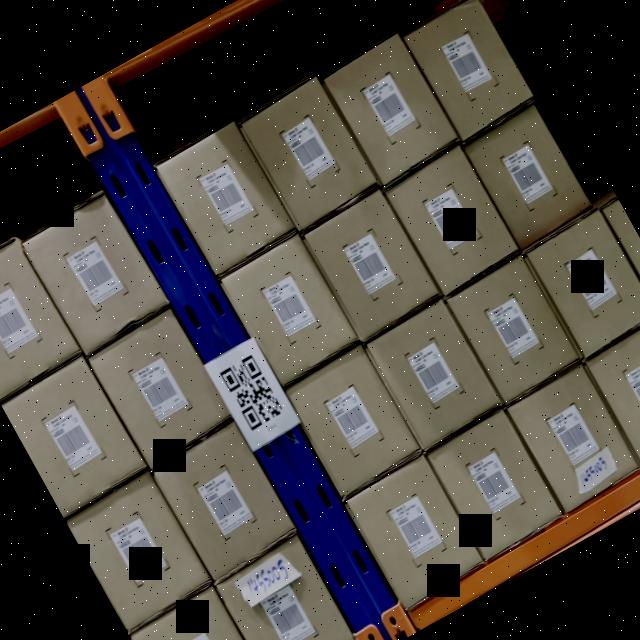box: (66, 473, 212, 631), (2, 360, 146, 512), (154, 427, 296, 578), (23, 195, 164, 347), (90, 314, 232, 464), (283, 346, 423, 498), (240, 78, 378, 230), (220, 236, 360, 385), (157, 123, 295, 274), (345, 459, 484, 607), (323, 36, 458, 185), (366, 300, 500, 448), (305, 195, 440, 338), (428, 412, 562, 556), (449, 258, 581, 403), (507, 367, 639, 509), (386, 152, 518, 293), (405, 0, 534, 140), (464, 107, 590, 245), (524, 211, 640, 356), (217, 542, 356, 640), (0, 239, 79, 399), (586, 322, 640, 461), (130, 589, 273, 640)
